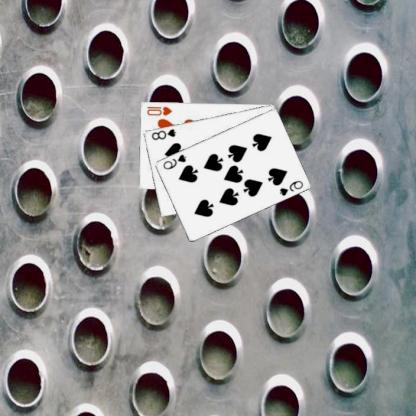10H: (146, 104, 175, 116)
8S: (151, 126, 179, 141)
9S: (162, 151, 189, 171), (278, 178, 306, 197)
